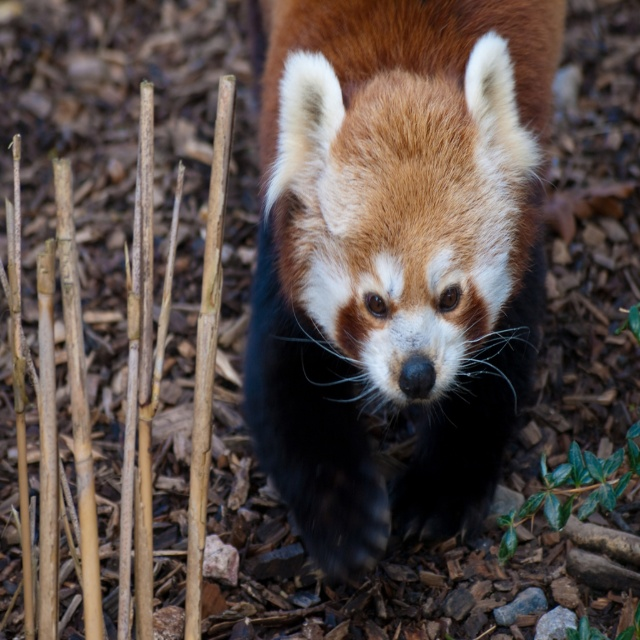Red panda: (242, 0, 570, 604)
